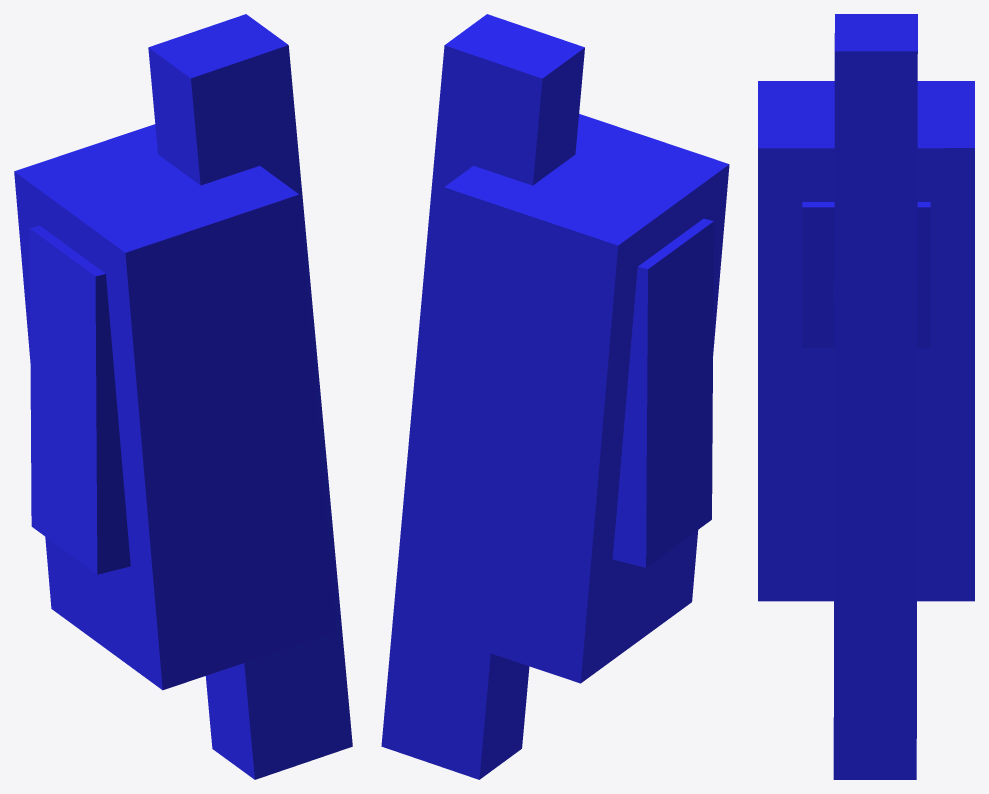
3 renders of one model, left to right at view 1: azimuth 30°, elevation 25°; view 2: azimuth 150°, elevation 25°; view 3: azimuth 270°, elevation 25°, orthographic. The views are drawn at different scales.
Parts seen in each view (by area): view 1: Right_BarrettHand_fingerLink_respondable1; view 2: Right_BarrettHand_fingerLink_respondable1; view 3: Right_BarrettHand_fingerLink_respondable1.
Boxes of the visible parts, x1,y1,x2,y2 form: Right_BarrettHand_fingerLink_respondable1: (14,14,352,779); Right_BarrettHand_fingerLink_respondable1: (381,14,729,779); Right_BarrettHand_fingerLink_respondable1: (758,14,974,779).
Size of the model in its own units: 0.0278 by 0.0706 by 0.0196.
